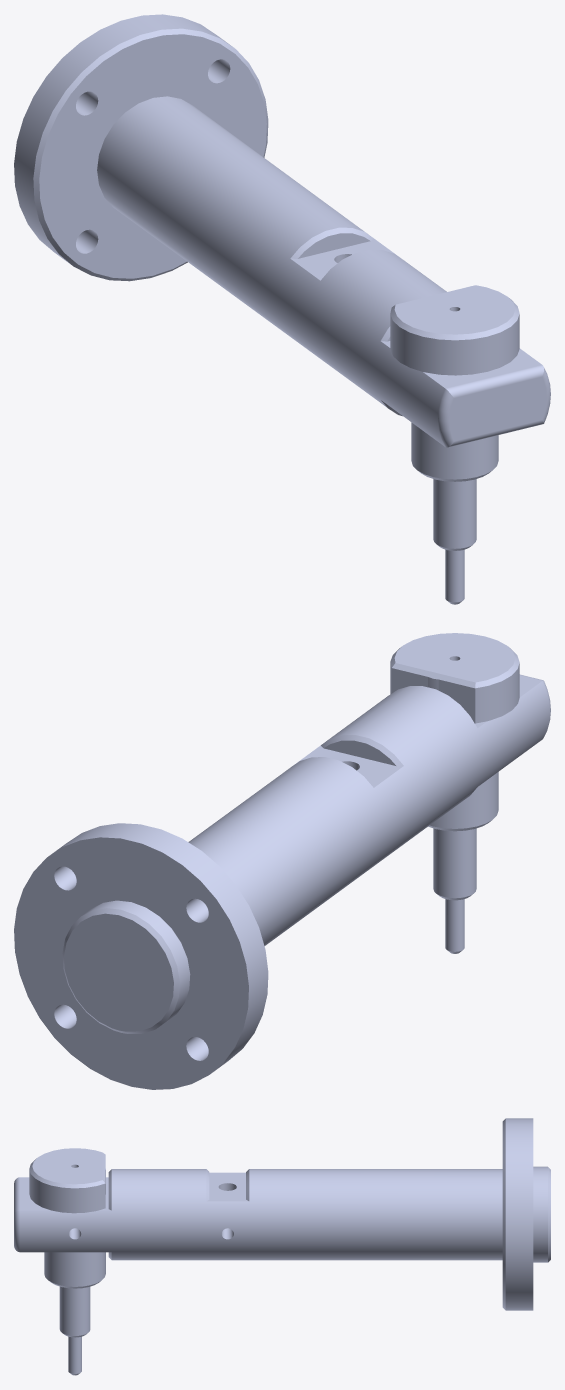
The model's file is drill.dae.
3 views of the same model, one above another, from view 1: azimuth 30°, elevation 25°; view 2: azimuth 150°, elevation 25°; view 3: azimuth 270°, elevation 25° (orthographic). The views are drawn at different scales.
Visible parts, largest first — view 1: Montagem_Drill_Unida; view 2: Montagem_Drill_Unida; view 3: Montagem_Drill_Unida.
Boxes of the visible parts, <box> form: Montagem_Drill_Unida: <box>14,14,550,604</box>; Montagem_Drill_Unida: <box>14,633,550,1089</box>; Montagem_Drill_Unida: <box>14,1118,550,1375</box>.
Size of the model in its own units: 0.0629 by 0.0889 by 0.1758.
